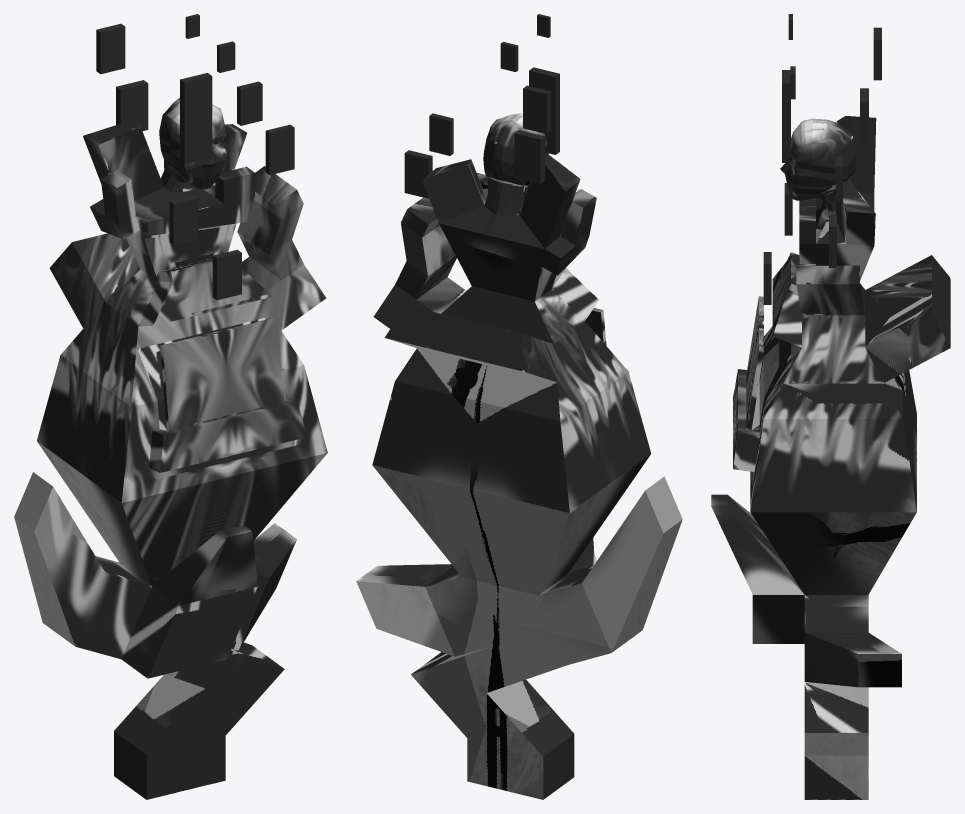
Rendered from Puta estatua dios mio.fbx.
3 views of the same model, side by side, from view 1: azimuth 30°, elevation 25°; view 2: azimuth 150°, elevation 25°; view 3: azimuth 270°, elevation 25° (orthographic). The views are drawn at different scales.
Parts seen in each view (by area): view 1: Cabeza, Cube, Cube.008, Cube.004, Cube.005, Cube.007, Cube.006, Cube.003; view 2: Cabeza, Cube.008, Cube, Cube.004, Cube.005, Cube.003; view 3: Cabeza, Cube, Cube.008, Cube.004, Cube.006.
Boxes of the visible parts, box(x1,y1,x2,y2) form: Cabeza: box(14, 98, 327, 799); Cube: box(180, 73, 212, 164); Cube.008: box(116, 80, 148, 131); Cube.004: box(96, 23, 125, 74); Cube.005: box(265, 124, 294, 174); Cube.007: box(169, 195, 198, 245); Cube.006: box(212, 249, 241, 300); Cube.003: box(237, 81, 262, 125); Cabeza: box(356, 113, 682, 799); Cube.008: box(514, 130, 545, 183); Cube: box(529, 67, 559, 154); Cube.004: box(523, 85, 550, 133); Cube.005: box(404, 150, 432, 198); Cube.003: box(429, 113, 453, 155); Cabeza: box(711, 116, 950, 799); Cube: box(782, 70, 790, 162); Cube.008: box(860, 88, 868, 146); Cube.004: box(873, 27, 881, 80); Cube.006: box(763, 252, 771, 304).
Bounding box in the file's own units: 1127 × 2886 × 820.
Materials: 2 (1 with a texture image).
